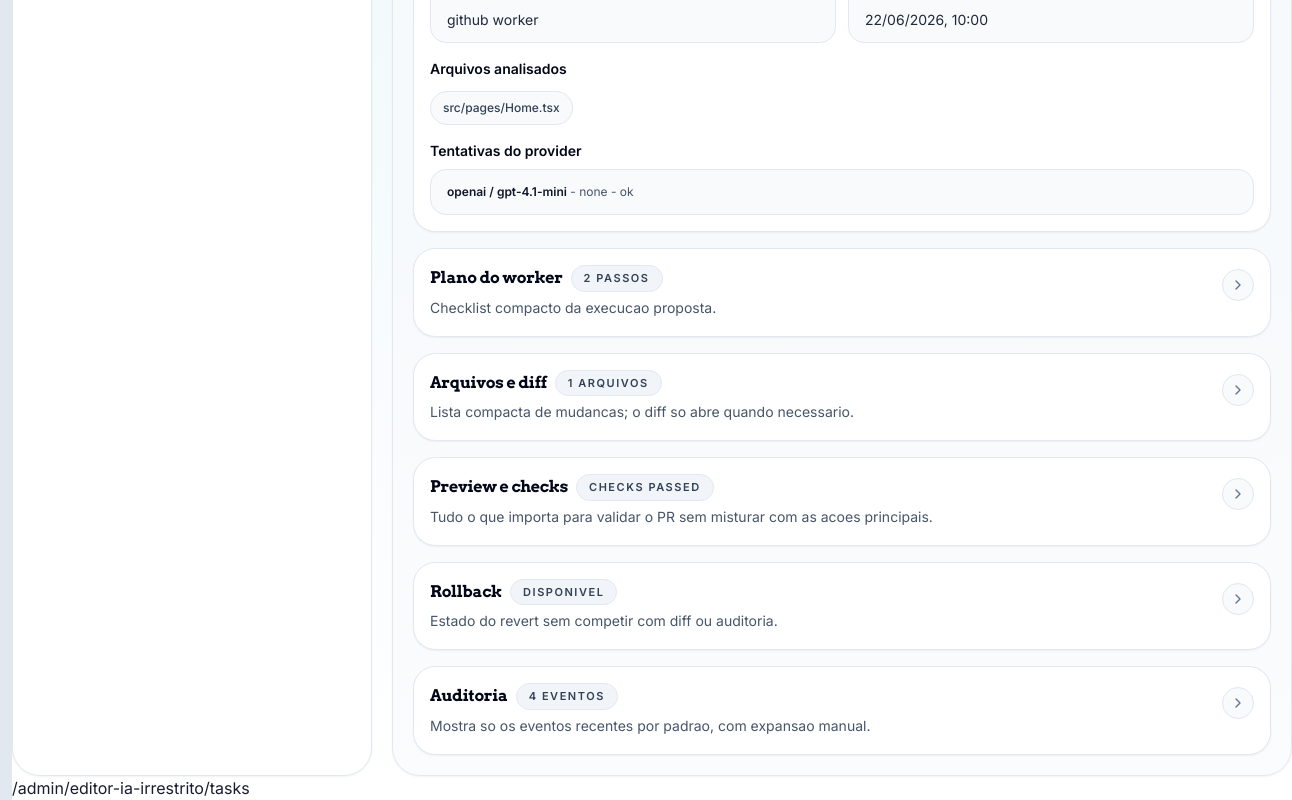
AdminAiCodeEditor › renders the redesigned tasks inbox with collapsed heavy sections by default
(page scrolled)
Expected: the text "Arquivos analisados" is shown, [430,60,567,77]
Click the button "Arquivos e diff" at (488, 382), box [414,354,1270,440]
(page scrolled)
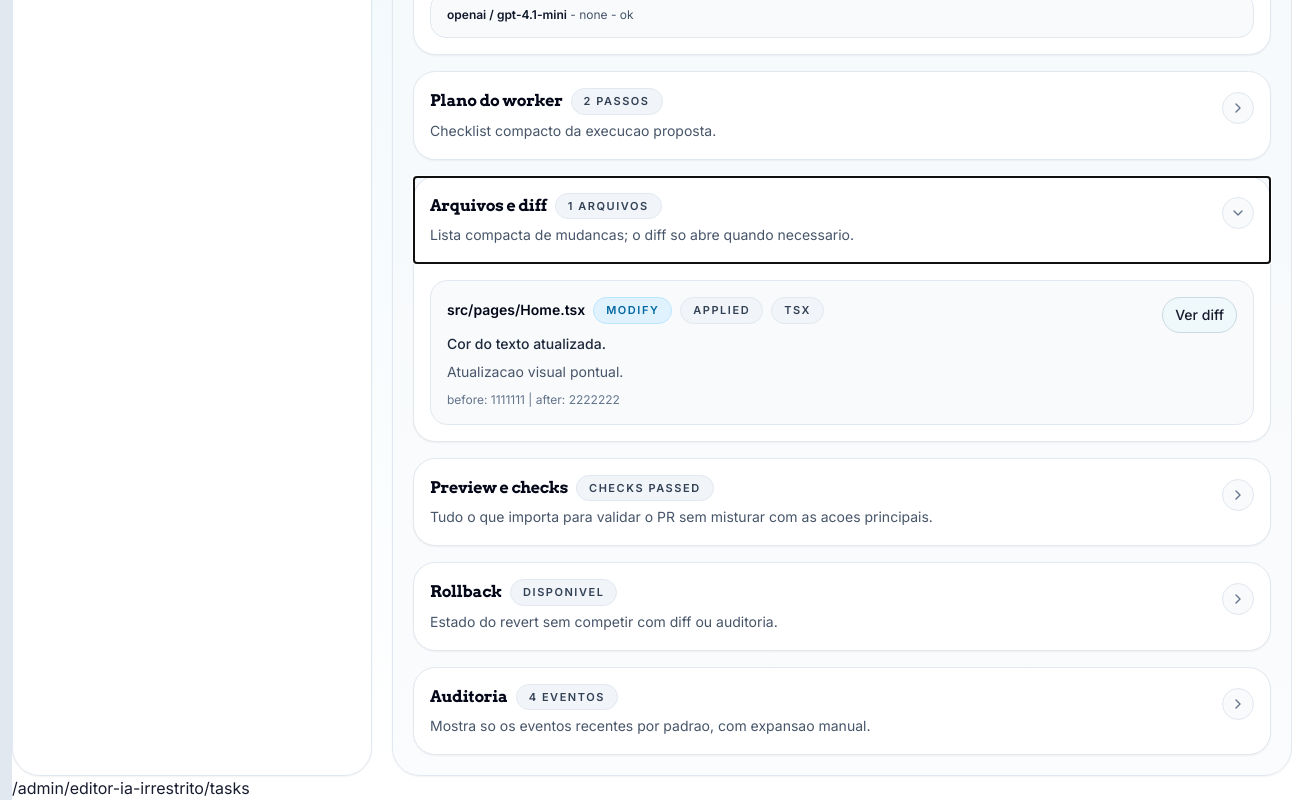
Expected: the text "Task criada" is not shown
Result: the button "Ver diff" is shown at [1162,297,1237,333]
Click the button "Mostra so os eventos recentes" at (469, 696), box [414,668,1270,754]
(page scrolled)
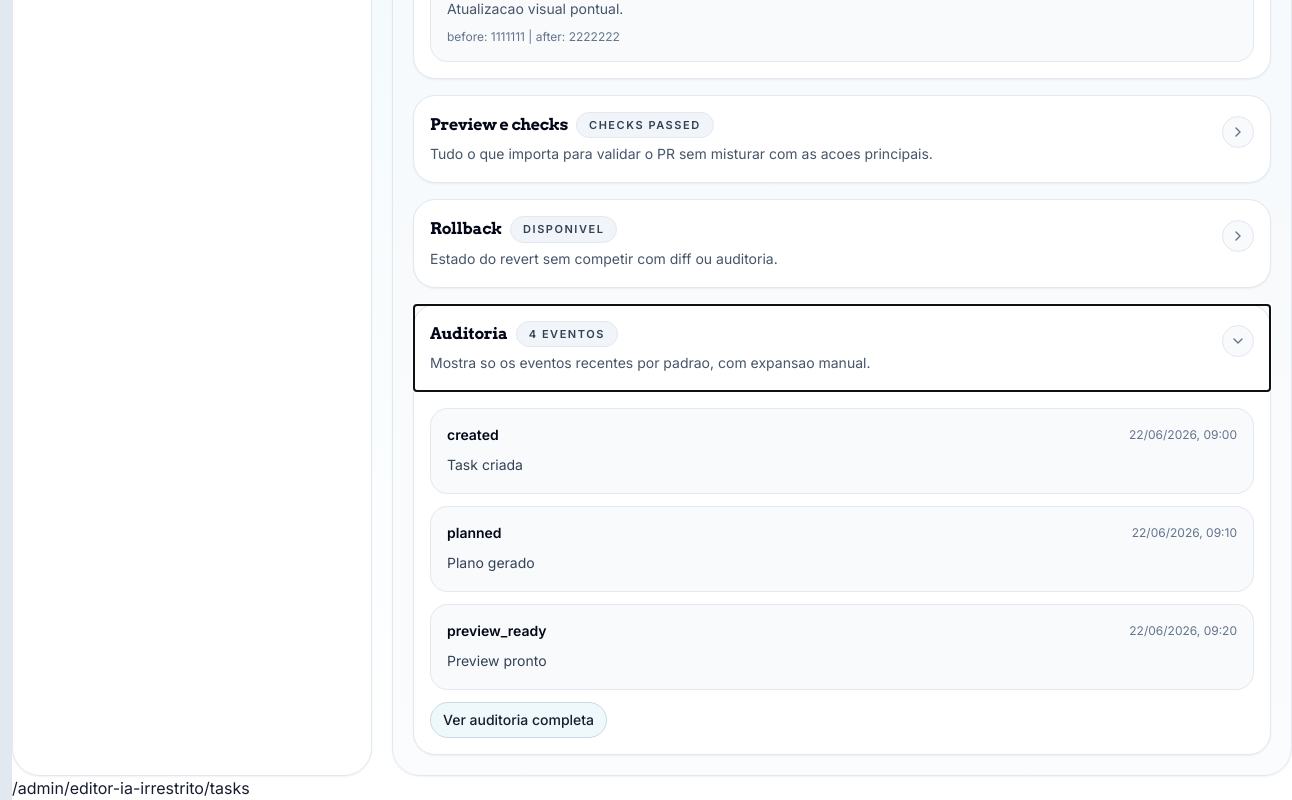
Result: the button "Ver auditoria completa" is shown at [430,702,607,738]
Result: the text "Task criada" is shown at [447,456,523,473]
